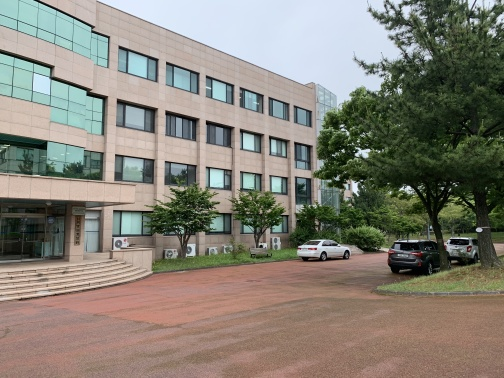Joint Experimental Labs: (1, 3, 347, 286)
